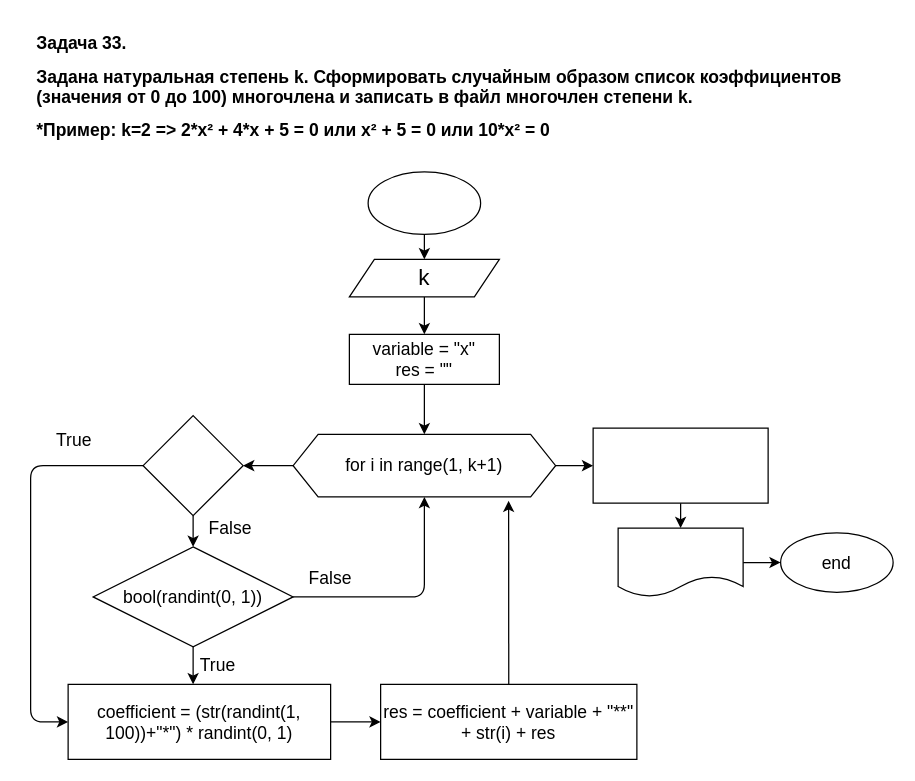
Some shapes in this 915 by 781 pixel diagram are drawn without their labels. The shapes that lost their labels are listed below. From the top down, each one's box as (x1, y1, x2, y2) in pixels, then its label:
(367, 171, 481, 234): start
(142, 414, 243, 516): i == k
(592, 427, 768, 503): res = res + ("+" + str(randint(1, 100))) * randint(0, 1) + "=0"
(617, 527, 743, 597): file.txt
